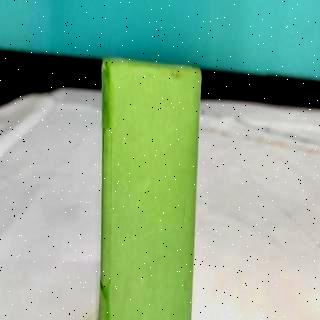greenbox: (98, 55, 202, 320)
